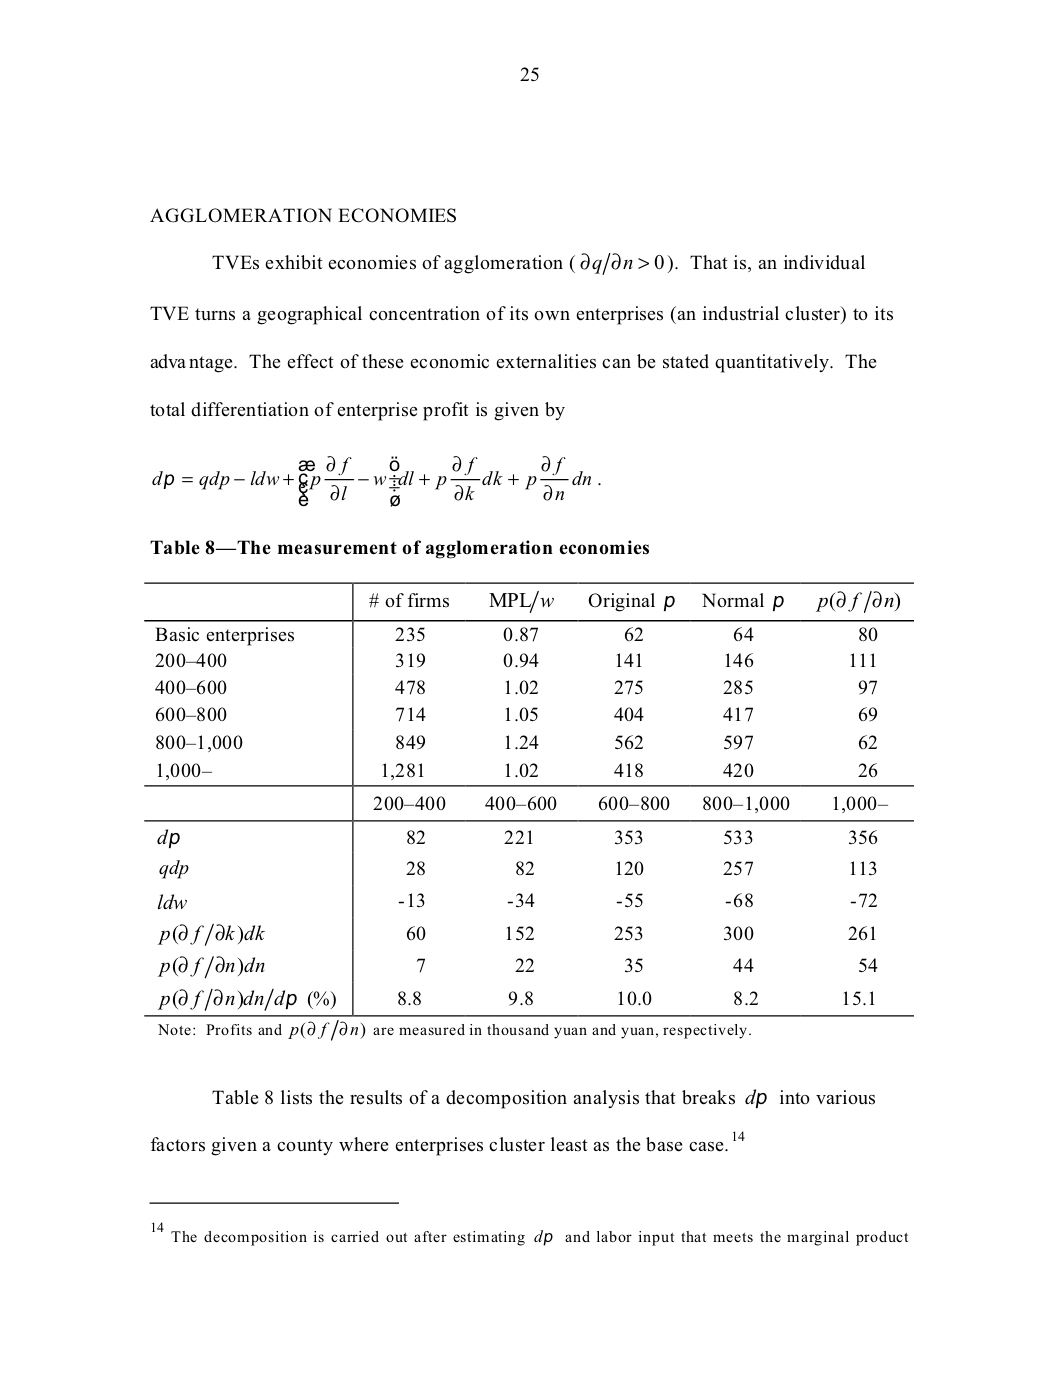Table: (144, 581, 913, 1041)
formula: (152, 455, 600, 507)
